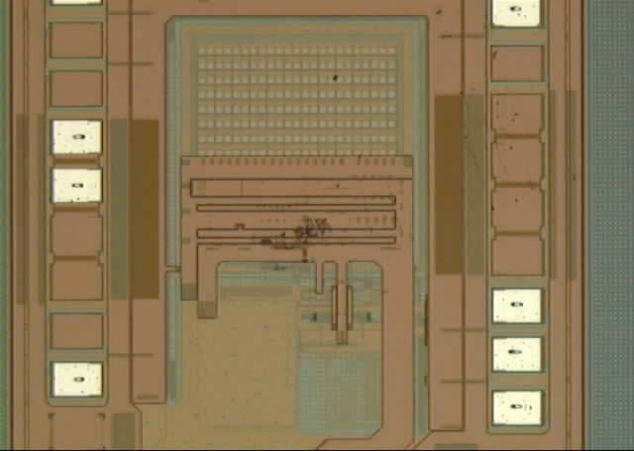PO CONTAMINATION: (260, 5, 527, 268)
